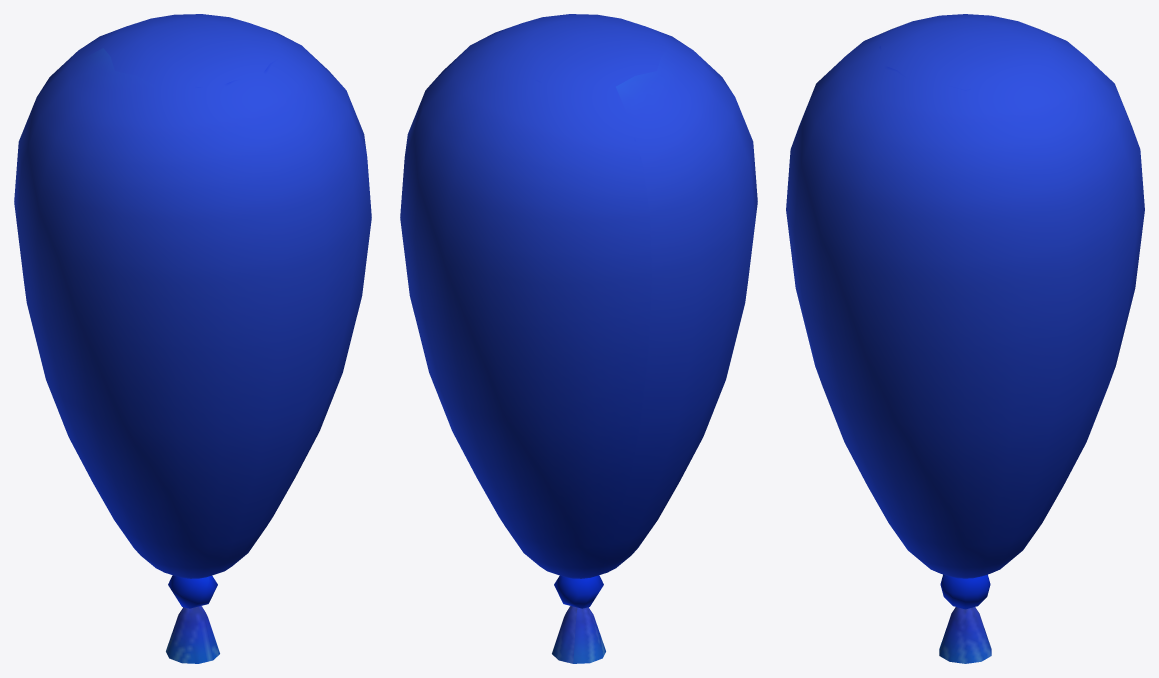
The model's file is balloon.fbx.
3 renders of one model, left to right at view 1: azimuth 30°, elevation 25°; view 2: azimuth 150°, elevation 25°; view 3: azimuth 270°, elevation 25°, orthographic.
Parts seen in each view (by area): view 1: polySurface3; view 2: polySurface3; view 3: polySurface3.
Boxes of the visible parts, x1,y1,x2,y2 form: polySurface3: (14,14,371,663); polySurface3: (400,14,757,663); polySurface3: (786,14,1144,663).
Size of the model in its own units: 12.01 by 22.72 by 11.99.
